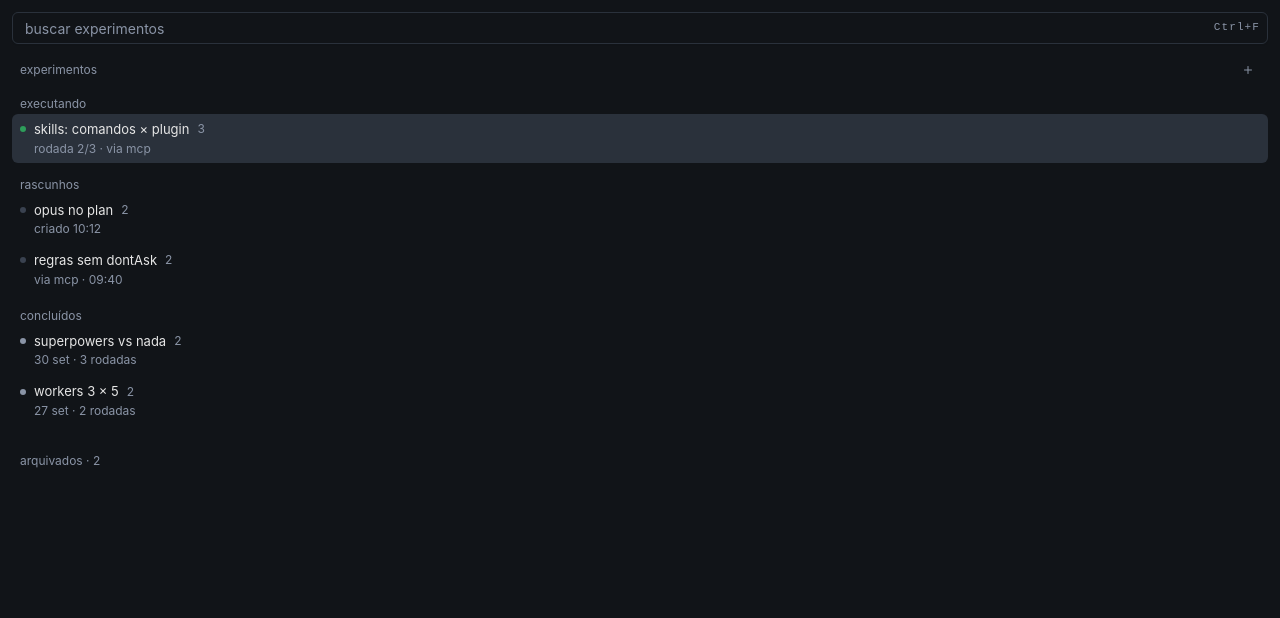
Test case: arquivados · N expands the archived group at the end of the list, and collapses it again (#461)
Click the button "arquivados · 2" at (60, 460), box [12,453,1268,469]
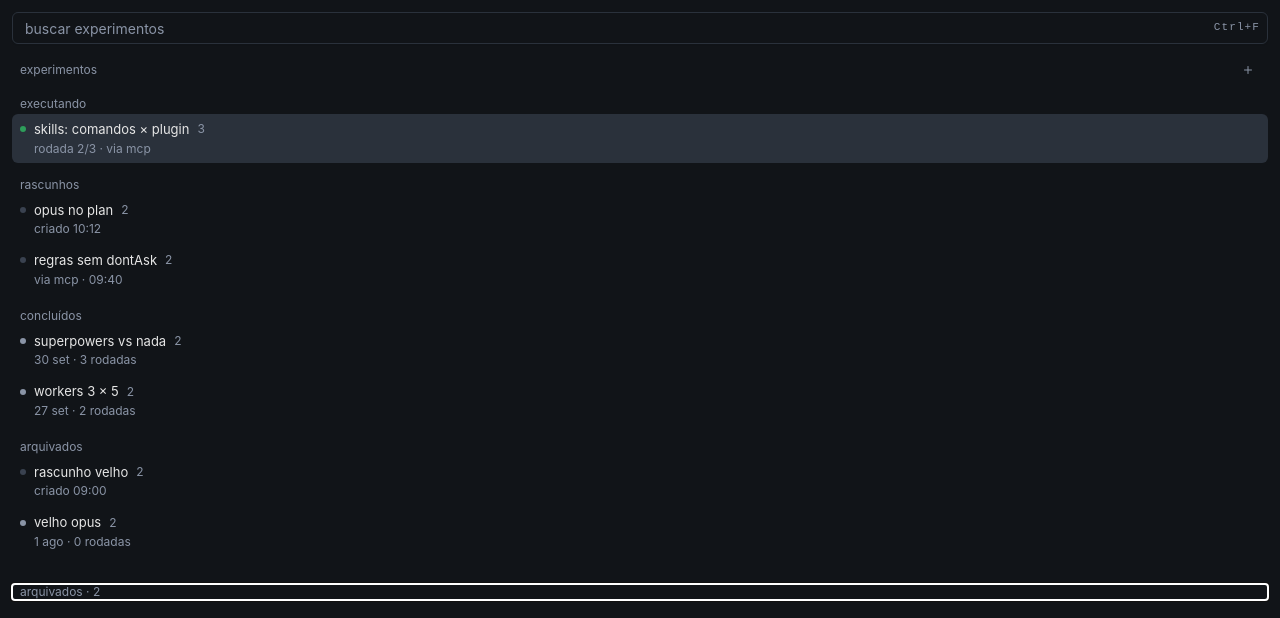
Click the button "arquivados · 2" at (60, 591), box [12,584,1268,600]
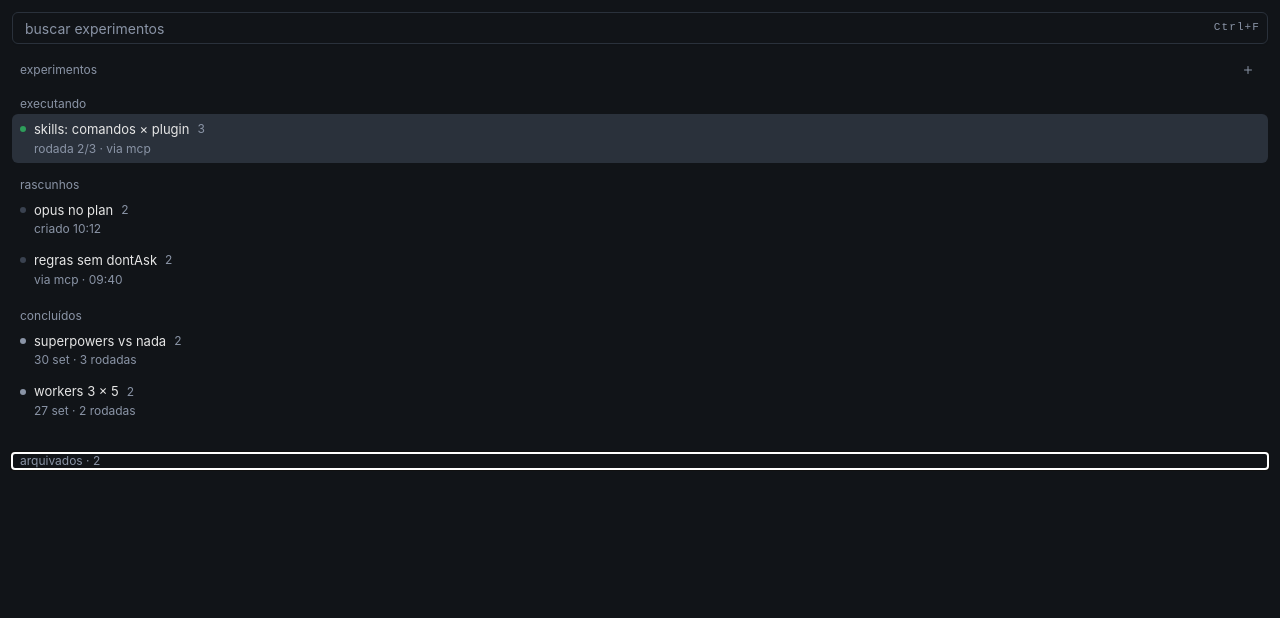
Result: the text "arquivados" is gone
